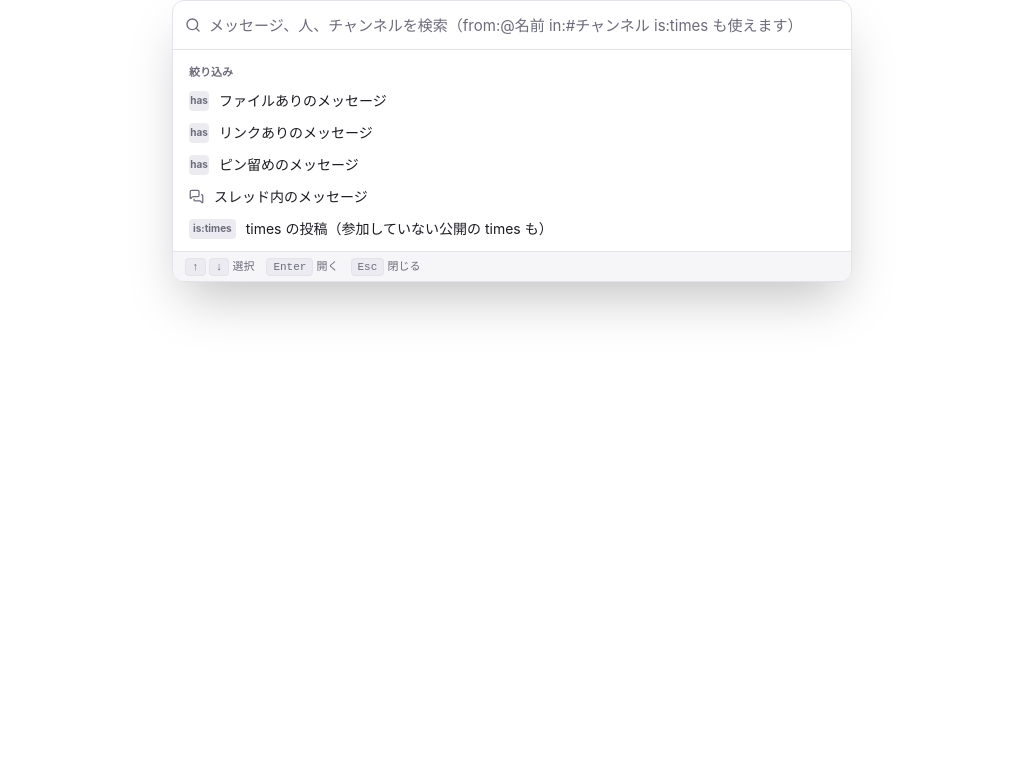
Test case: search box live results › drops a response that arrives after newer words were typed
This screenshot has width=1024, height=768.
Type "設" into the field named "検索語" at (524, 25), box [209, 1, 839, 49]
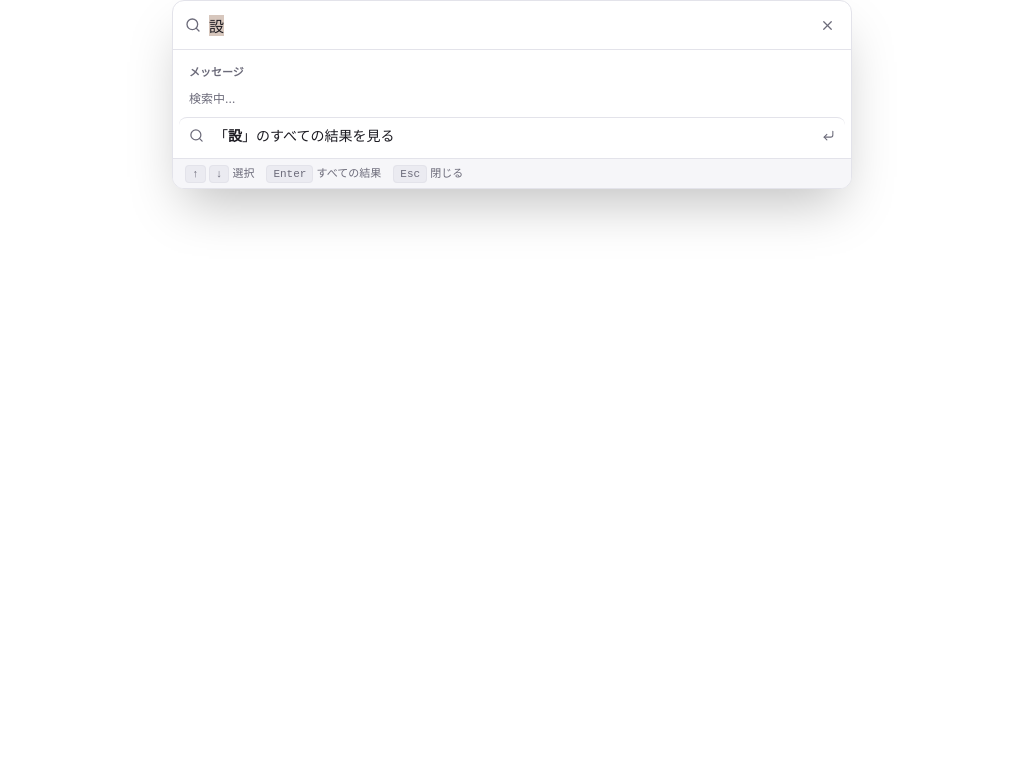
Replace the text in the field named "検索語" with "設計" at (508, 25), box [209, 1, 808, 49]
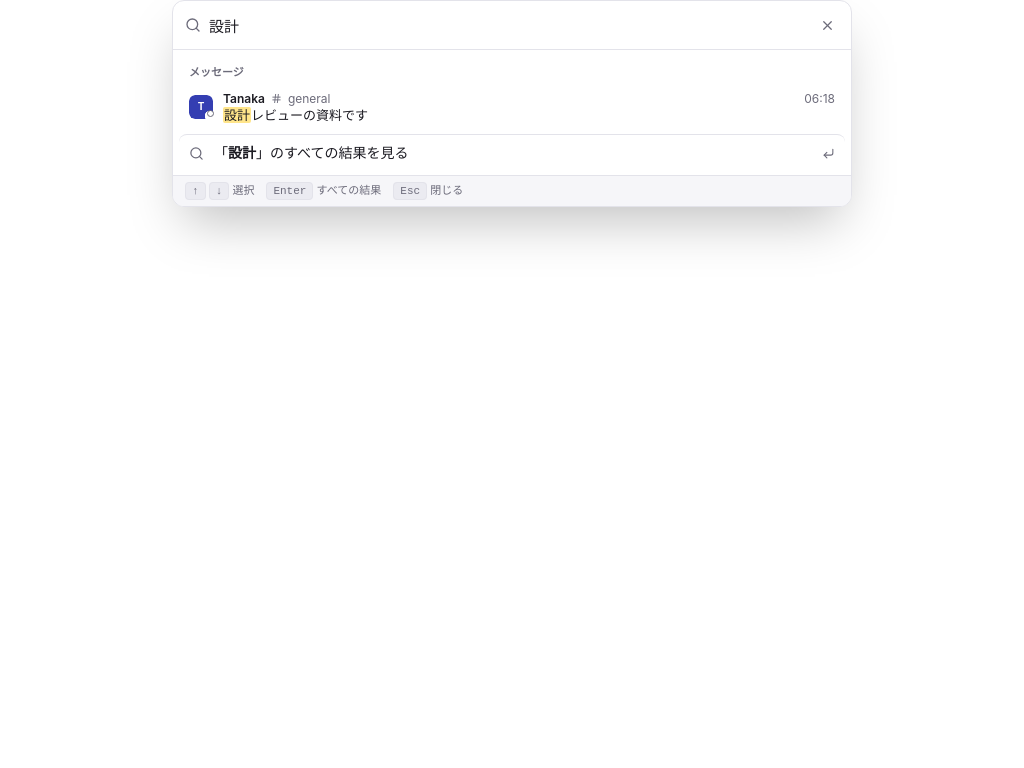
Check: the text "レビューの資料です" is shown, box [251, 106, 368, 122]
